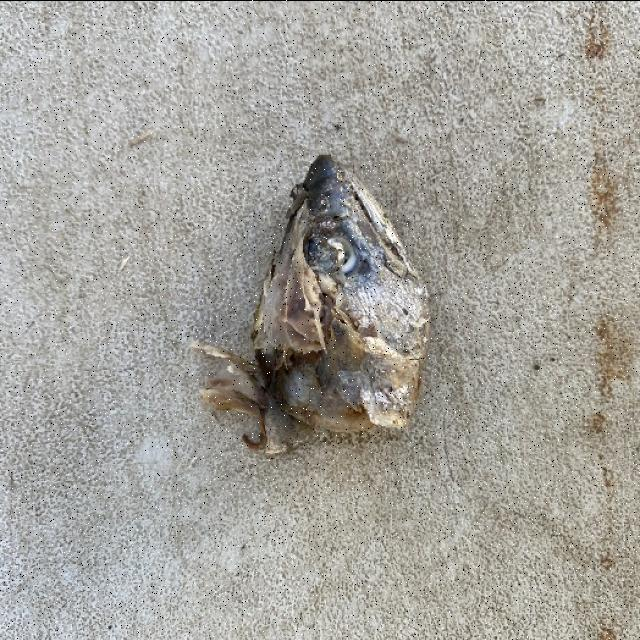organik: (220, 149, 426, 451)
